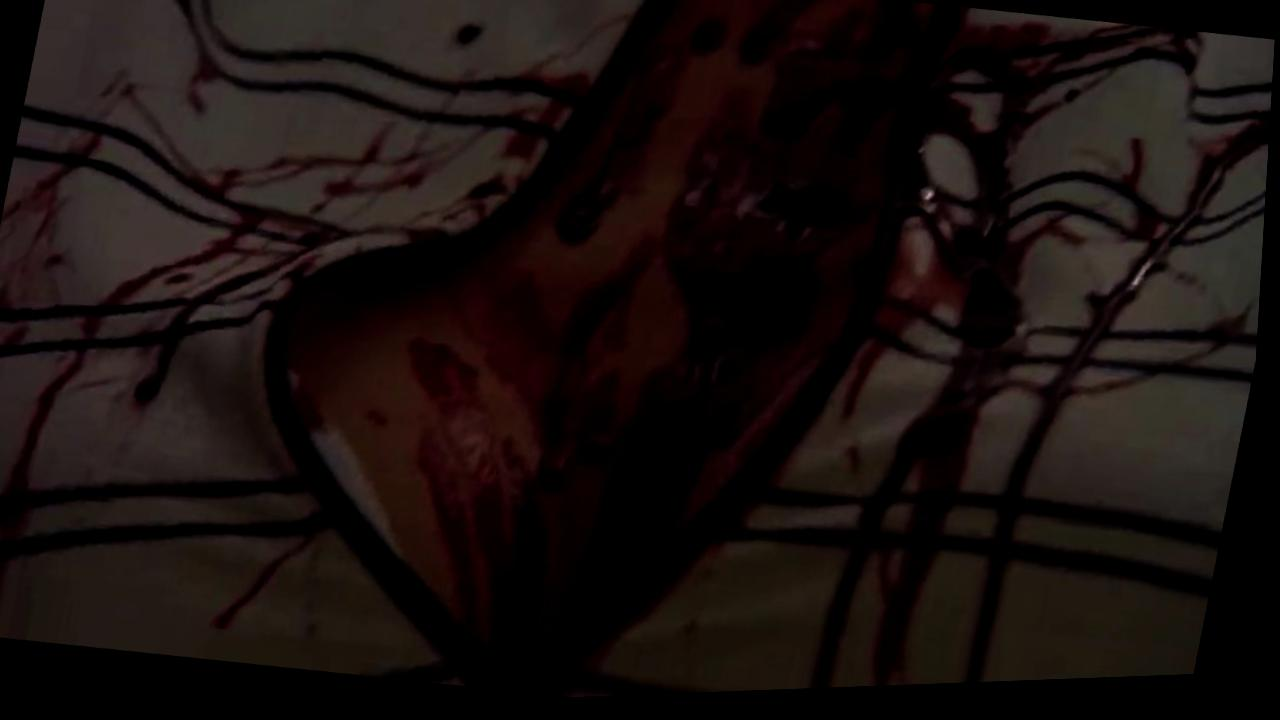Fire: (0, 0, 1274, 695)
